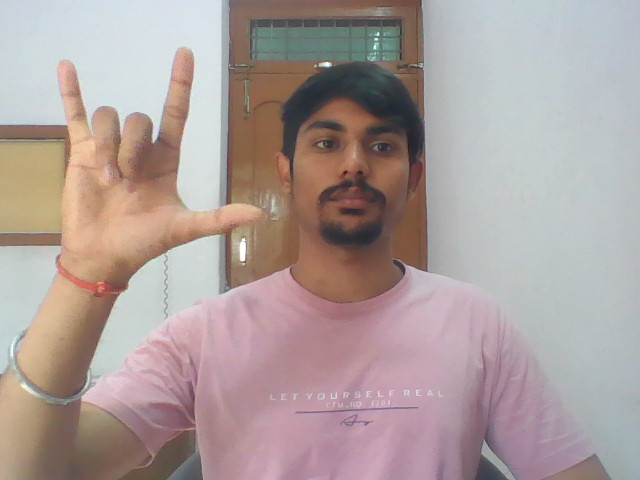I Love You: (35, 41, 270, 256)
